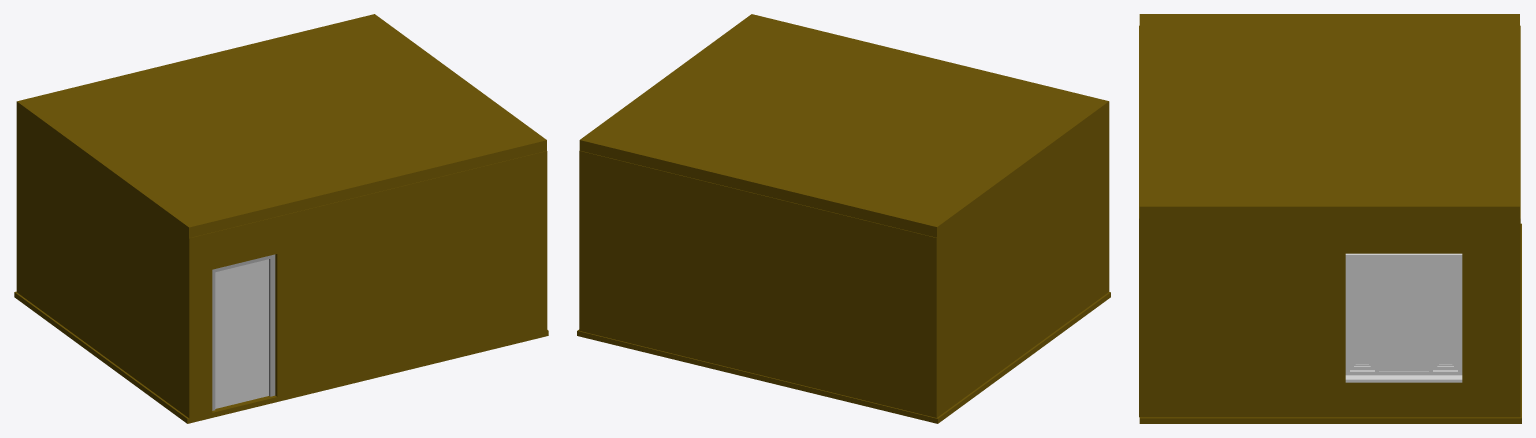
File: FloorPlan202.fbx
3 views of the same model, side by side, from view 1: azimuth 30°, elevation 25°; view 2: azimuth 150°, elevation 25°; view 3: azimuth 270°, elevation 25° (orthographic). The views are drawn at different scales.
Parts seen in each view (by area): view 1: Ceiling.006, Ceiling.001, Ceiling.003, Ceiling.007, Ceiling.002; view 2: Ceiling.006, Ceiling.001, Ceiling.007; view 3: Ceiling.001, Ceiling.006, Window, Ceiling.007.
Part boxes in pixels (left/top/right/bottom): Ceiling.006: left=16, top=112, right=547, bottom=418; Ceiling.001: left=16, top=14, right=546, bottom=237; Ceiling.003: left=215, top=259, right=268, bottom=408; Ceiling.007: left=14, top=291, right=548, bottom=423; Ceiling.002: left=212, top=254, right=275, bottom=410; Ceiling.006: left=579, top=112, right=1109, bottom=417; Ceiling.001: left=579, top=14, right=1109, bottom=237; Ceiling.007: left=577, top=292, right=1110, bottom=423; Ceiling.001: left=1139, top=14, right=1519, bottom=218; Ceiling.006: left=1139, top=25, right=1520, bottom=417; Window: left=1345, top=253, right=1462, bottom=382; Ceiling.007: left=1139, top=223, right=1521, bottom=423.
Size of the model in its own units: 566 by 287 by 460.
